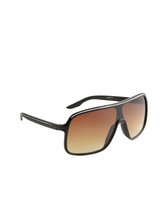glasses: (16, 94, 155, 153)
